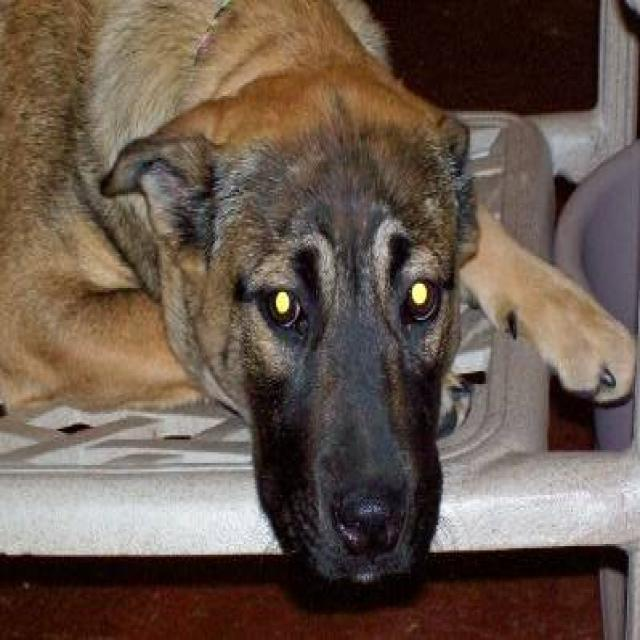dog: (0, 0, 635, 597)
